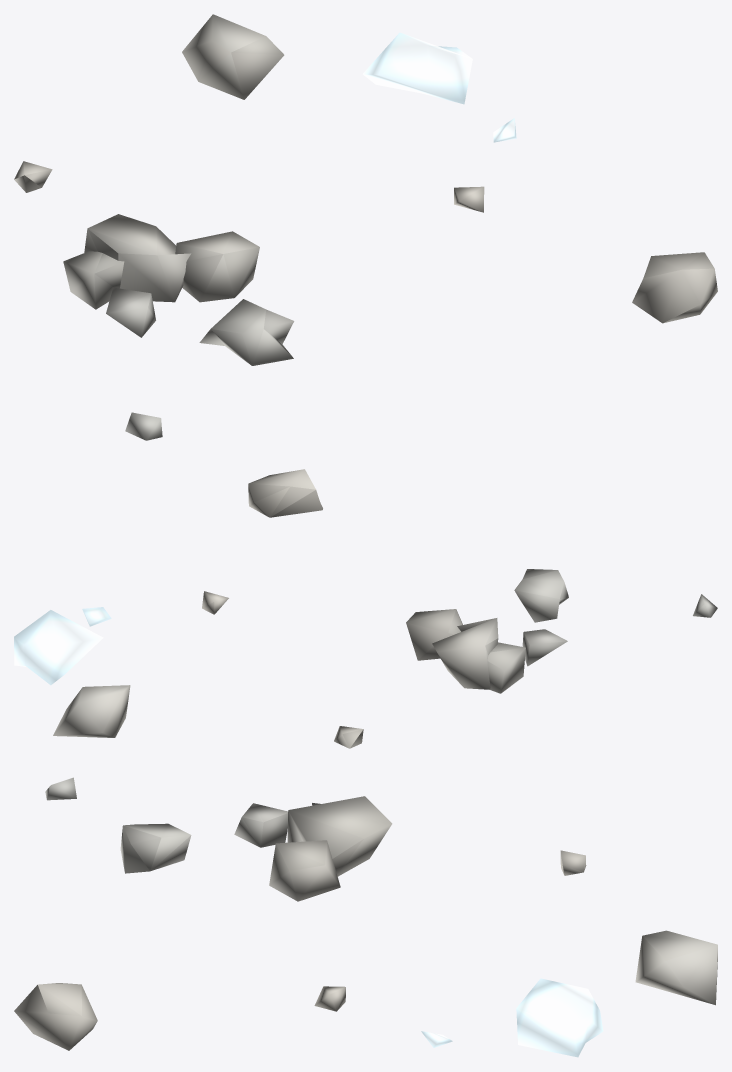
File: frost_gc_crumbs_b_lod2.glb
The picture shows the model from 3 angles, top to bottom: view 1: azimuth 30°, elevation 25°; view 2: azimuth 150°, elevation 25°; view 3: azimuth 270°, elevation 25°; orthographic projection. The views are drawn at different scales.
Parts seen in each view (by area): view 1: frost_gc_crumbs_b.001; view 2: frost_gc_crumbs_b.001; view 3: frost_gc_crumbs_b.001.
Boxes of the visible parts, x1,y1,x2,y2 form: frost_gc_crumbs_b.001: (14, 14, 717, 440); frost_gc_crumbs_b.001: (14, 469, 717, 748); frost_gc_crumbs_b.001: (14, 777, 717, 1057).
Bounding box in the file's own units: 3.8 × 0.3587 × 4.23.
